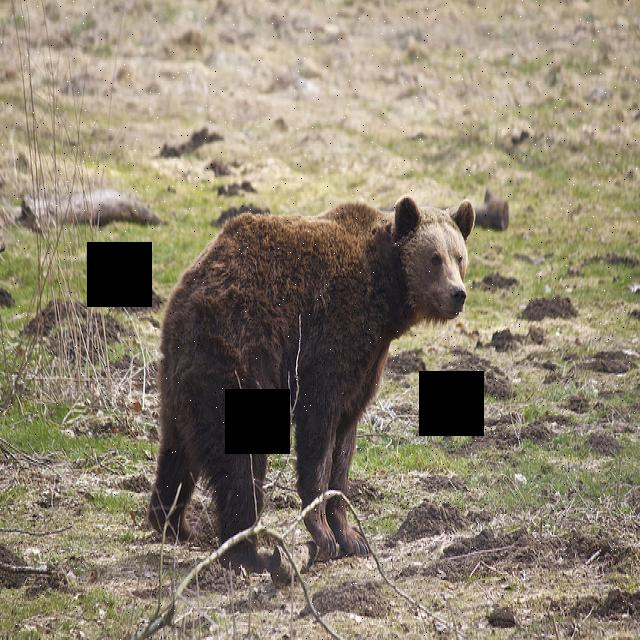Bear: (119, 150, 472, 582)
